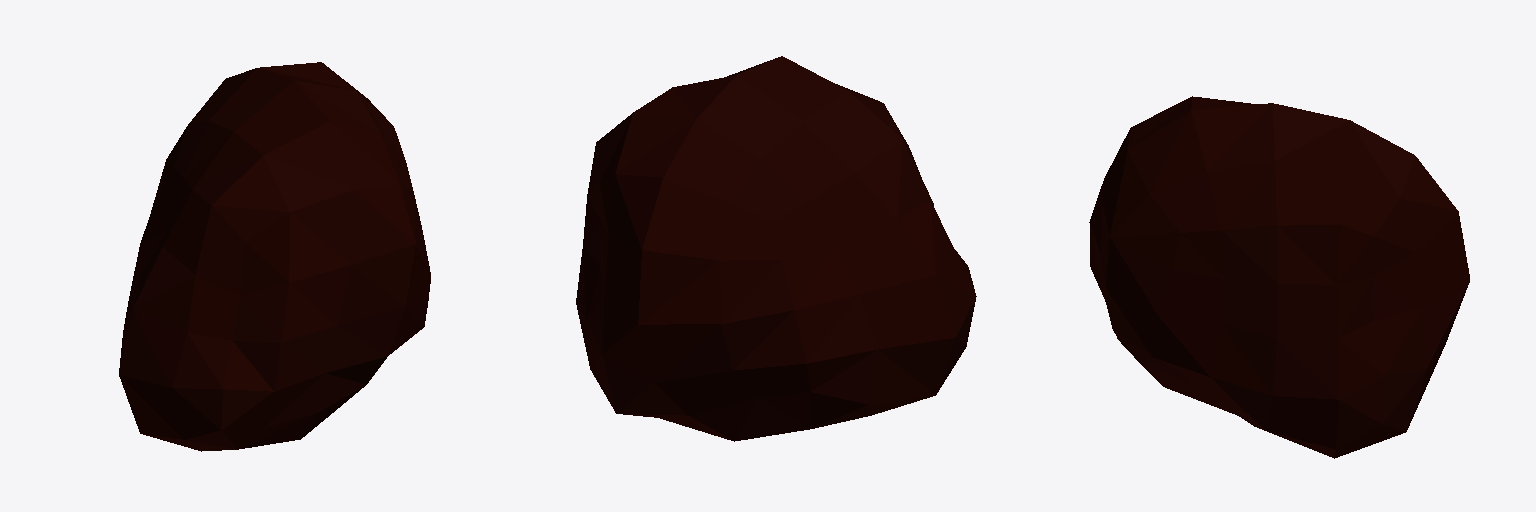
The model's file is Asteroid1.obj.
The picture shows the model from 3 angles: view 1: azimuth 30°, elevation 25°; view 2: azimuth 150°, elevation 25°; view 3: azimuth 270°, elevation 25°; orthographic projection.
Parts seen in each view (by area): view 1: Cube.001_Cube.002; view 2: Cube.001_Cube.002; view 3: Cube.001_Cube.002.
Part boxes in pixels (left/top/right/bottom): Cube.001_Cube.002: left=119, top=62, right=430, bottom=451; Cube.001_Cube.002: left=576, top=56, right=976, bottom=441; Cube.001_Cube.002: left=1089, top=96, right=1469, bottom=458.
Bounding box in the file's own units: 1.75 × 1.75 × 1.77.